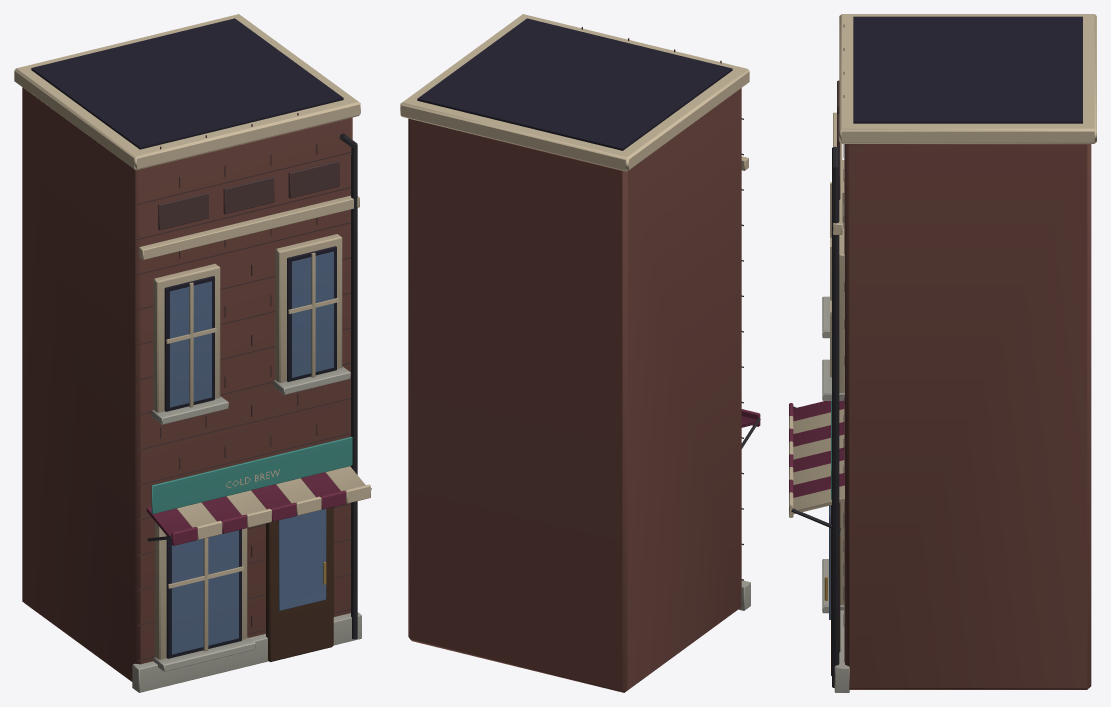
The model's file is env_shopfront_b.glb.
3 renders of one model, left to right at view 1: azimuth 30°, elevation 25°; view 2: azimuth 150°, elevation 25°; view 3: azimuth 270°, elevation 25°, orthographic. The views are drawn at different scales.
Parts seen in each view (by area): view 1: exterior, env_shopfront_b; view 2: exterior, env_shopfront_b; view 3: exterior, env_shopfront_b.
Part boxes in pixels (x1,y1,x2,y2): exterior: (14, 14, 361, 692); env_shopfront_b: (137, 113, 371, 671); exterior: (400, 14, 750, 692); env_shopfront_b: (581, 27, 760, 580); exterior: (834, 14, 1096, 692); env_shopfront_b: (789, 24, 844, 687).
Size of the model in its own units: 2.97 by 6.73 by 3.31.
